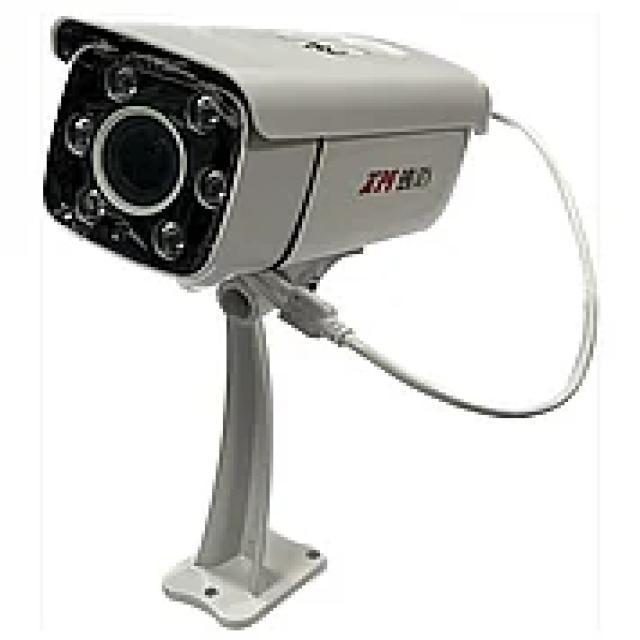hidden camera: (90, 102, 198, 219)
